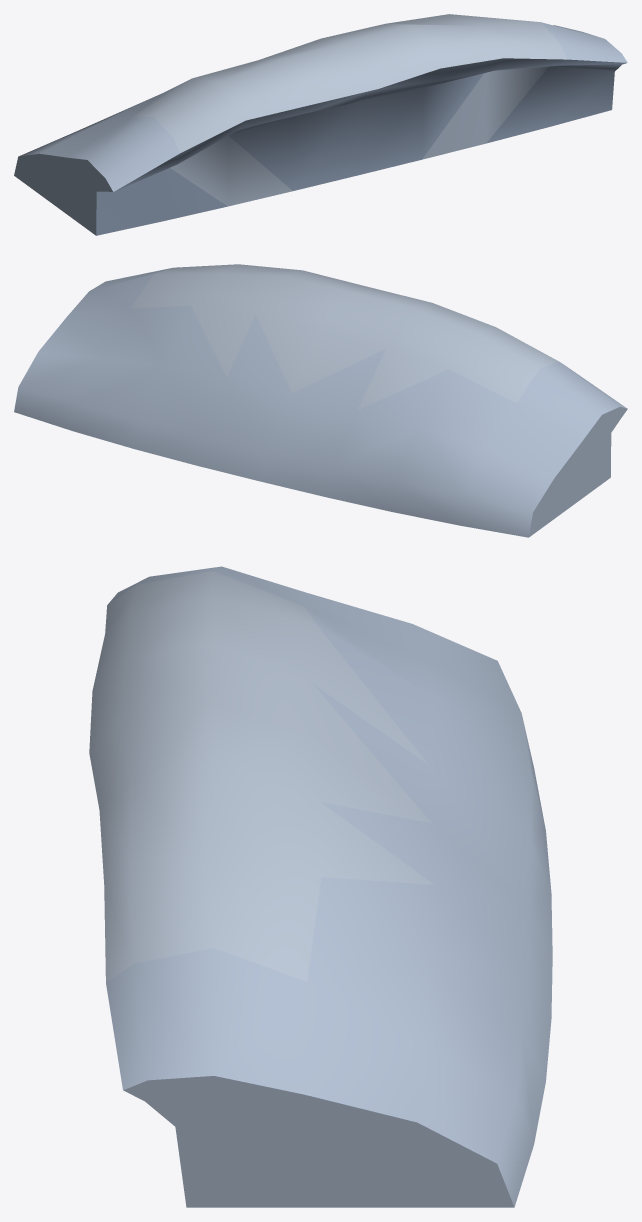
File: cornice.glb
The picture shows the model from 3 angles, top to bottom: view 1: azimuth 30°, elevation 25°; view 2: azimuth 150°, elevation 25°; view 3: azimuth 270°, elevation 25°; orthographic projection. The views are drawn at different scales.
Visible parts, largest first — view 1: Snow; view 2: Snow; view 3: Snow.
Boxes of the visible parts, bbox=[...] form: Snow: bbox=[14, 14, 627, 235]; Snow: bbox=[14, 264, 627, 537]; Snow: bbox=[89, 566, 552, 1207].
Bounding box in the file's own units: 6 × 1.42 × 2.34.
